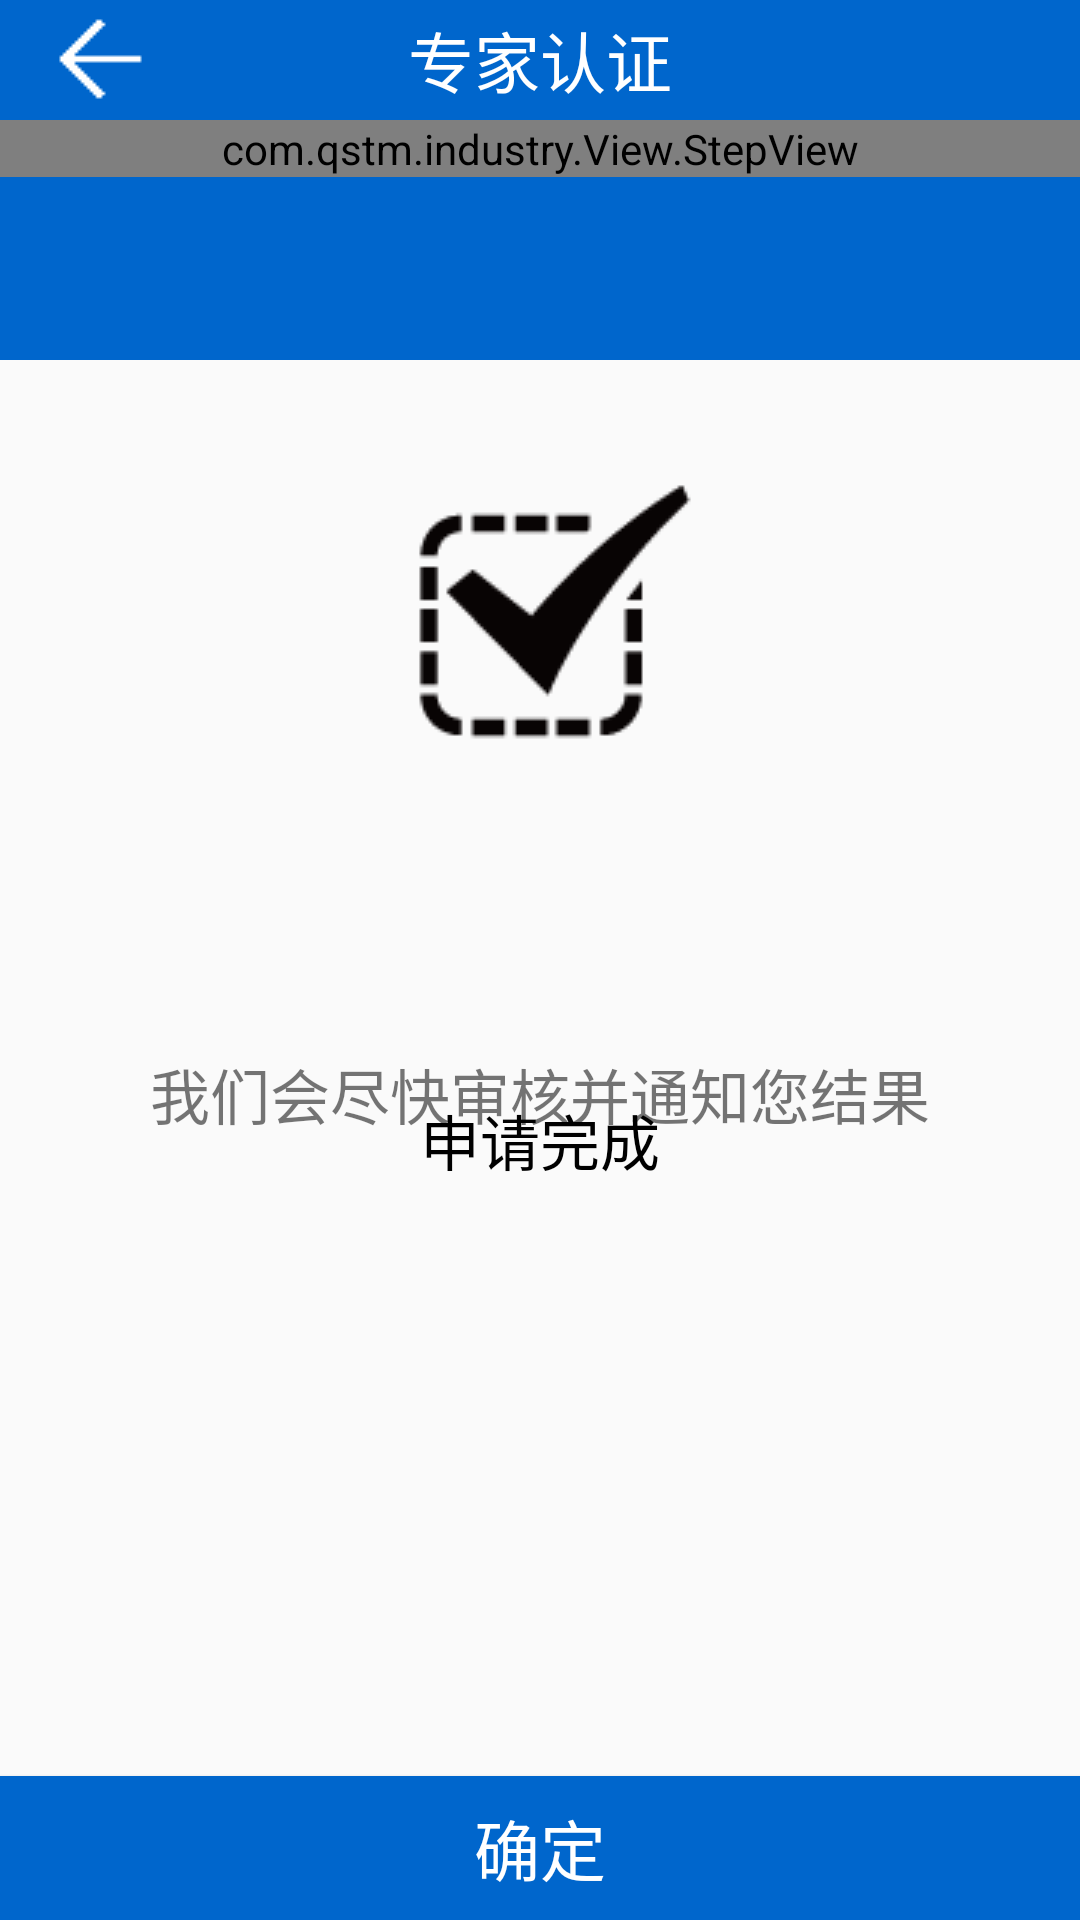

Point at icon controls on the screen. Image size 1080w x 1920h, points as (x,y).
back: (100,59)
finish: (555,611)
